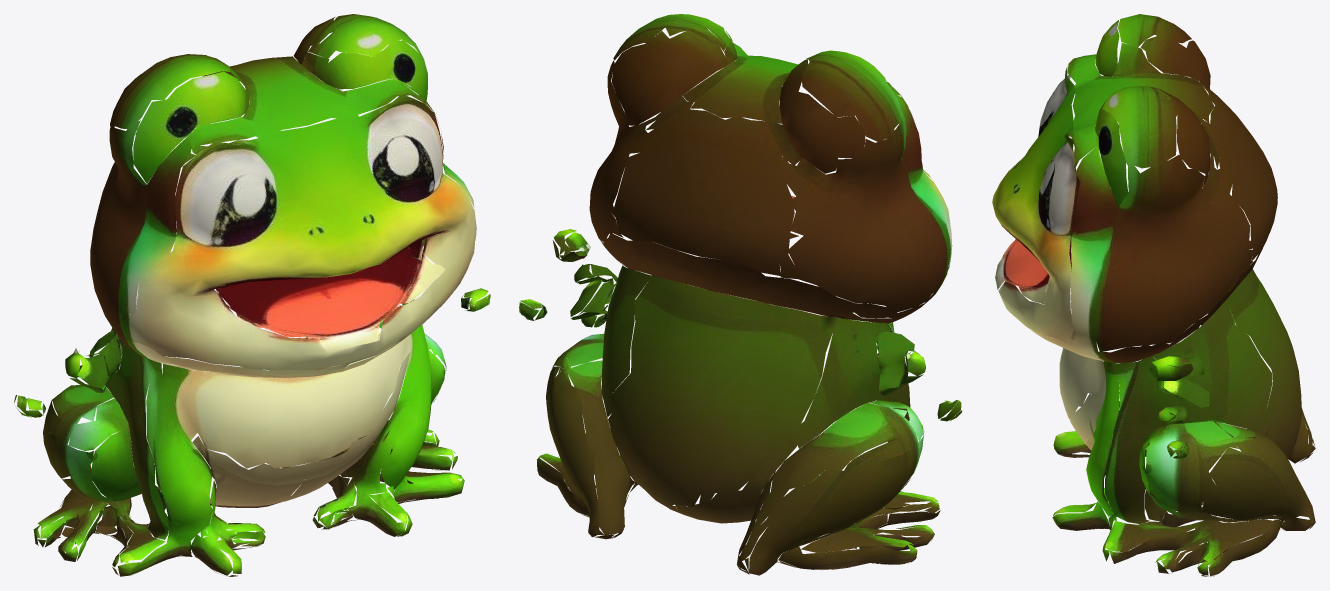
Rendered from bagiran_kurbaga.glb.
The picture shows the model from 3 angles, left to right: view 1: azimuth 30°, elevation 25°; view 2: azimuth 150°, elevation 25°; view 3: azimuth 270°, elevation 25°; orthographic projection. The views are drawn at different scales.
Visible parts, largest first — view 1: geometry_0; view 2: geometry_0; view 3: geometry_0.
Part boxes in pixels (left/top/right/bottom): geometry_0: left=14, top=14, right=490, bottom=576; geometry_0: left=519, top=14, right=962, bottom=575; geometry_0: left=992, top=14, right=1315, bottom=576.
Size of the model in its own units: 0.9918 by 0.9817 by 0.6536.
1 material, 1 textured.
